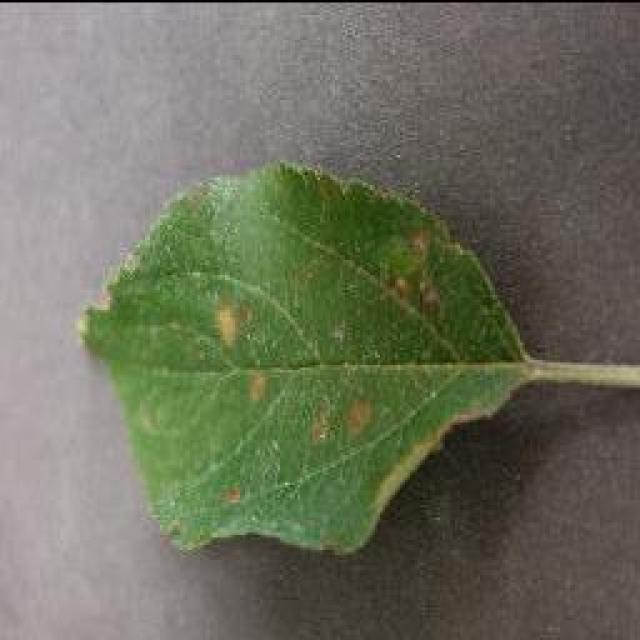apple healthy: (75, 155, 637, 557)
